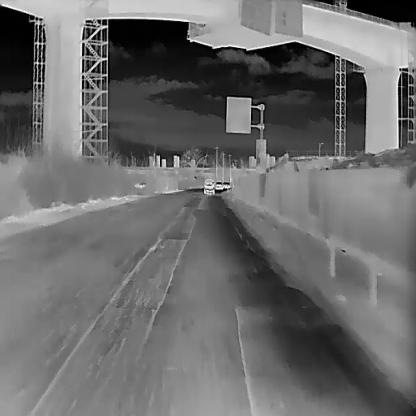car: (204, 178, 214, 194), (214, 181, 222, 189), (223, 181, 229, 188)
